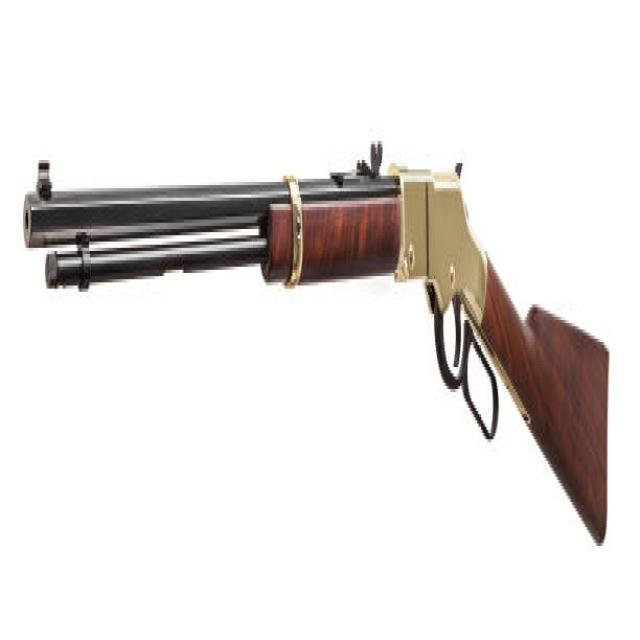rifle: (17, 114, 622, 566)
